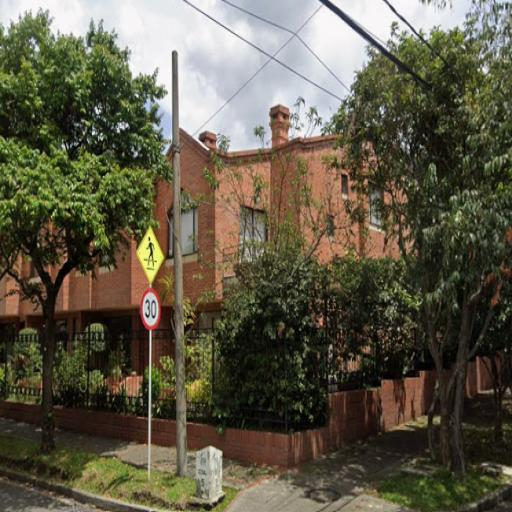Casa: (0, 103, 405, 470)
postes: (168, 49, 192, 480)
